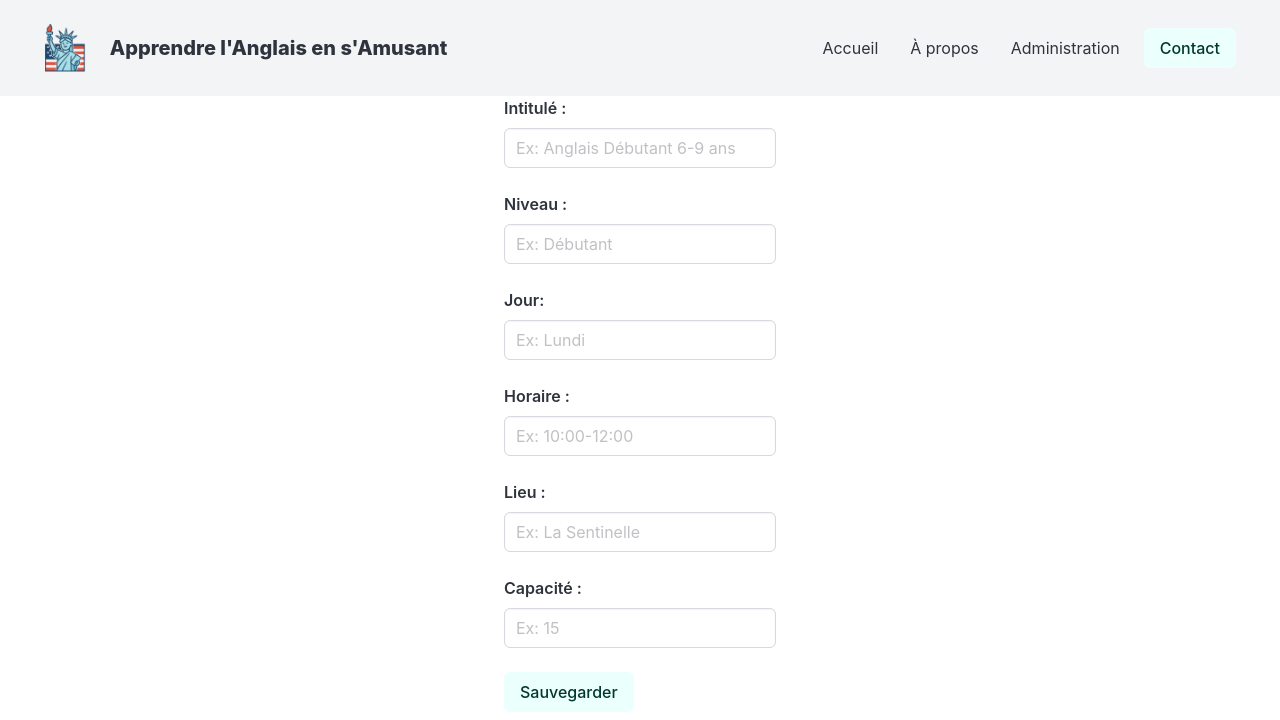
Scenario: Course Creation Form E2E › should show error when submitting empty form
This screenshot has width=1280, height=720.
What coordinates should you click on to do the following:
click the submit button
I would click on:
 (569, 692)
Its box is [504,672,634,712].
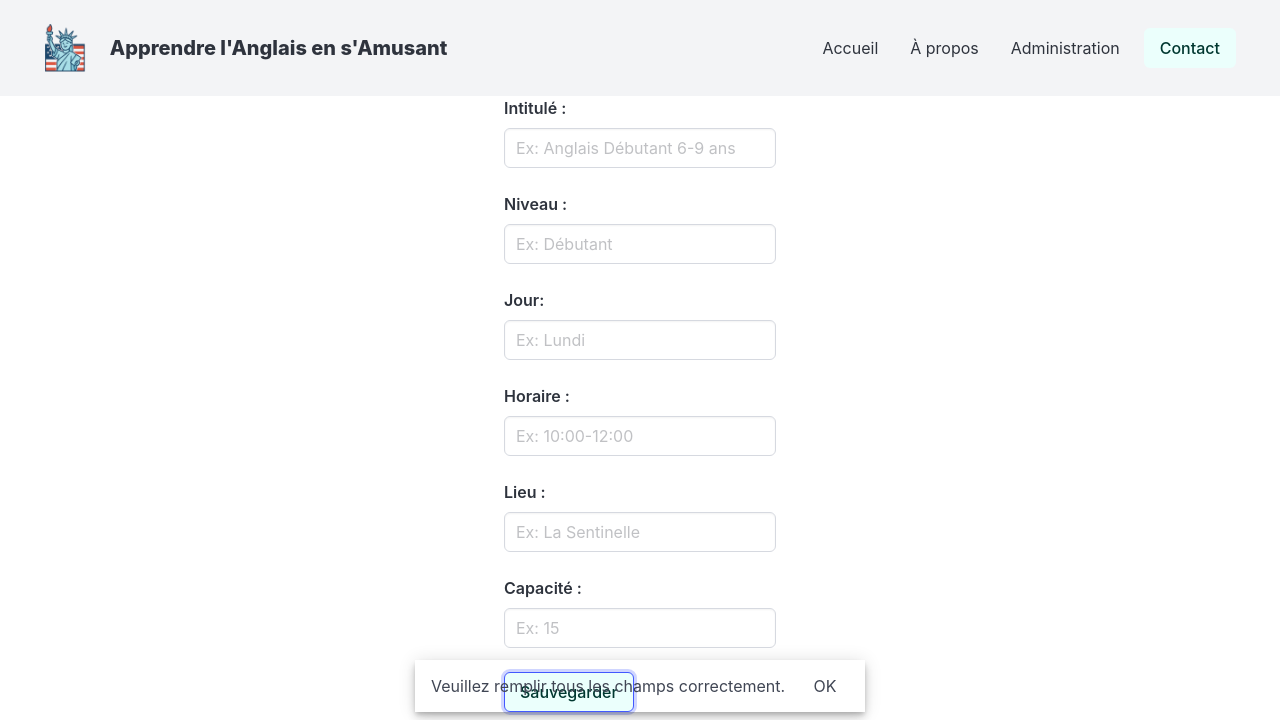
Check: the text "Veuillez remplir tous les champs correctement" is shown, box [431,676,785,696]
